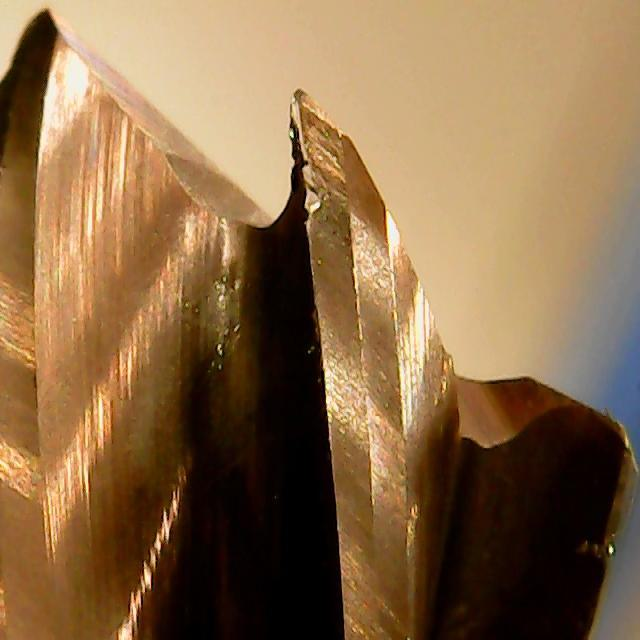Tool-wear-class-1: (268, 83, 412, 335)
